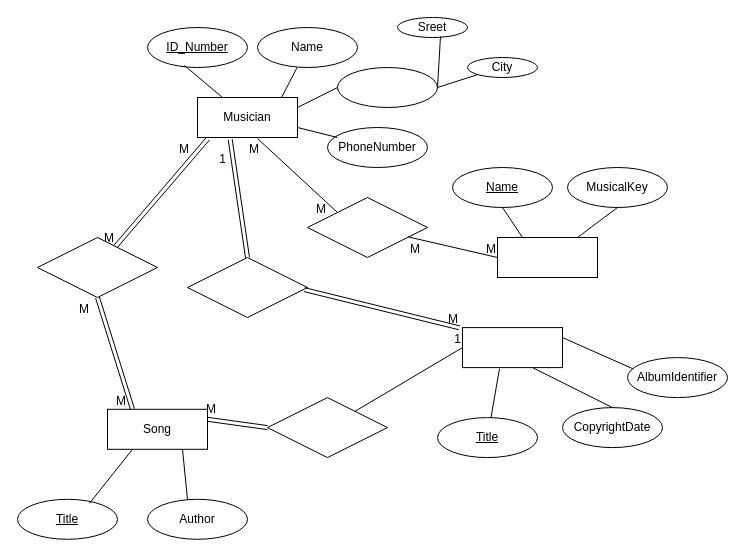
Some shapes in this 745 by 557 pixel diagram are drawn without their labels. Each missing label, with the box of its shape:
Address: (336, 66, 438, 108)
Album: (462, 327, 562, 368)
Appear: (266, 397, 388, 458)
Instrument: (496, 236, 598, 278)
Play: (306, 196, 428, 258)
PlayedBy: (36, 236, 158, 298)
Producer: (186, 256, 308, 318)
